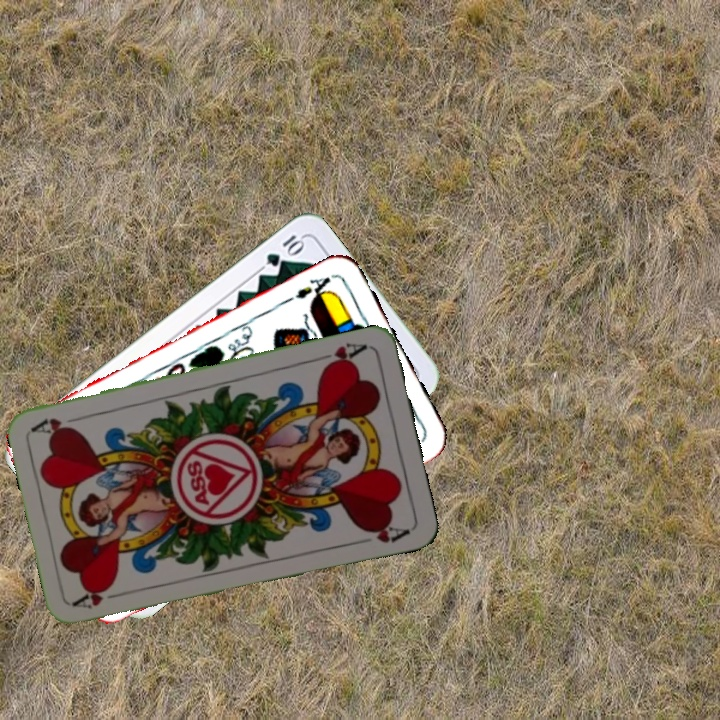EA: (291, 270, 338, 304)
G10: (262, 230, 307, 270)
HA: (313, 338, 370, 372), (70, 582, 129, 612)
